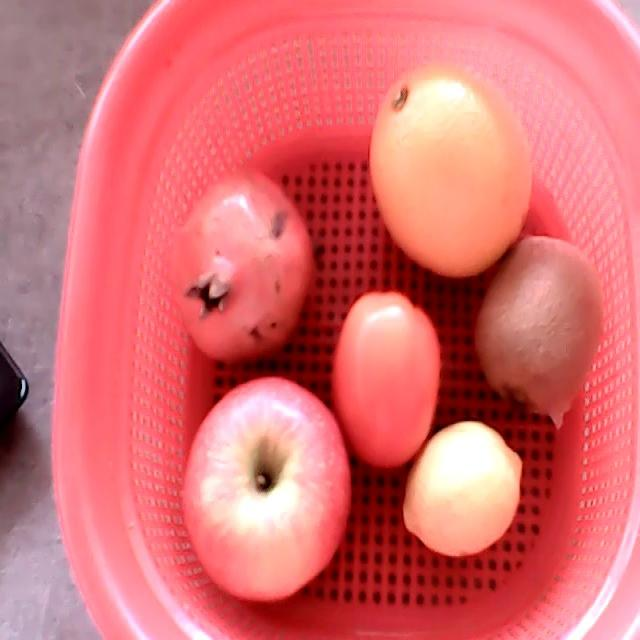apple: (182, 377, 352, 601)
kiwi: (474, 235, 606, 415)
lemon: (403, 419, 523, 559)
orange: (368, 67, 533, 277)
pomegranate: (173, 168, 313, 362)
tomato: (332, 288, 442, 466)
